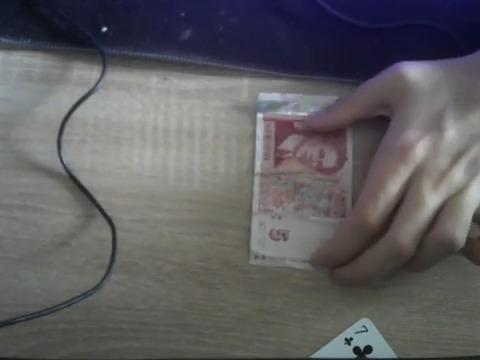5leva: (247, 93, 374, 271)
